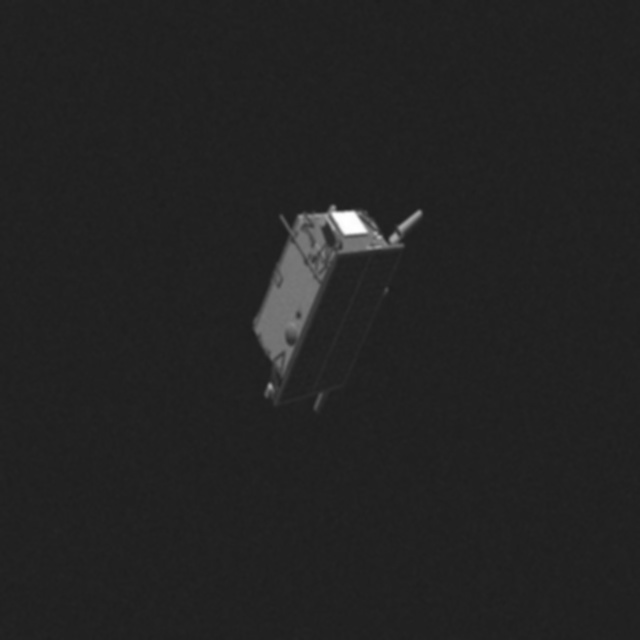satellite: (242, 181, 432, 427)
